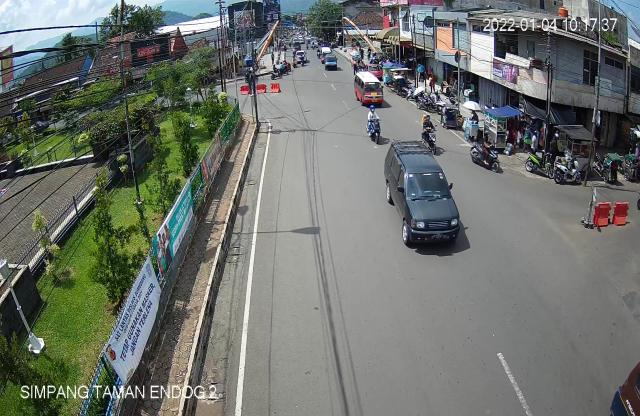Mobil: (381, 138, 468, 261), (353, 71, 387, 109)
Motor: (470, 135, 504, 175), (551, 152, 584, 189), (360, 104, 386, 142), (418, 113, 441, 153), (525, 146, 552, 180)
